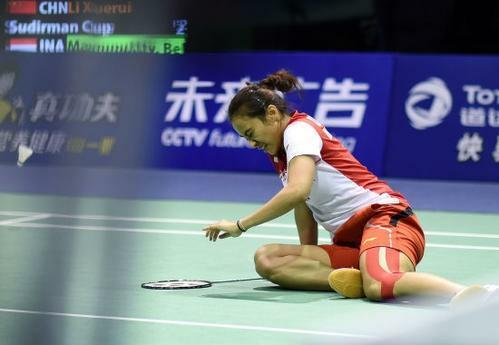Fall-Detected: (197, 62, 499, 319)
